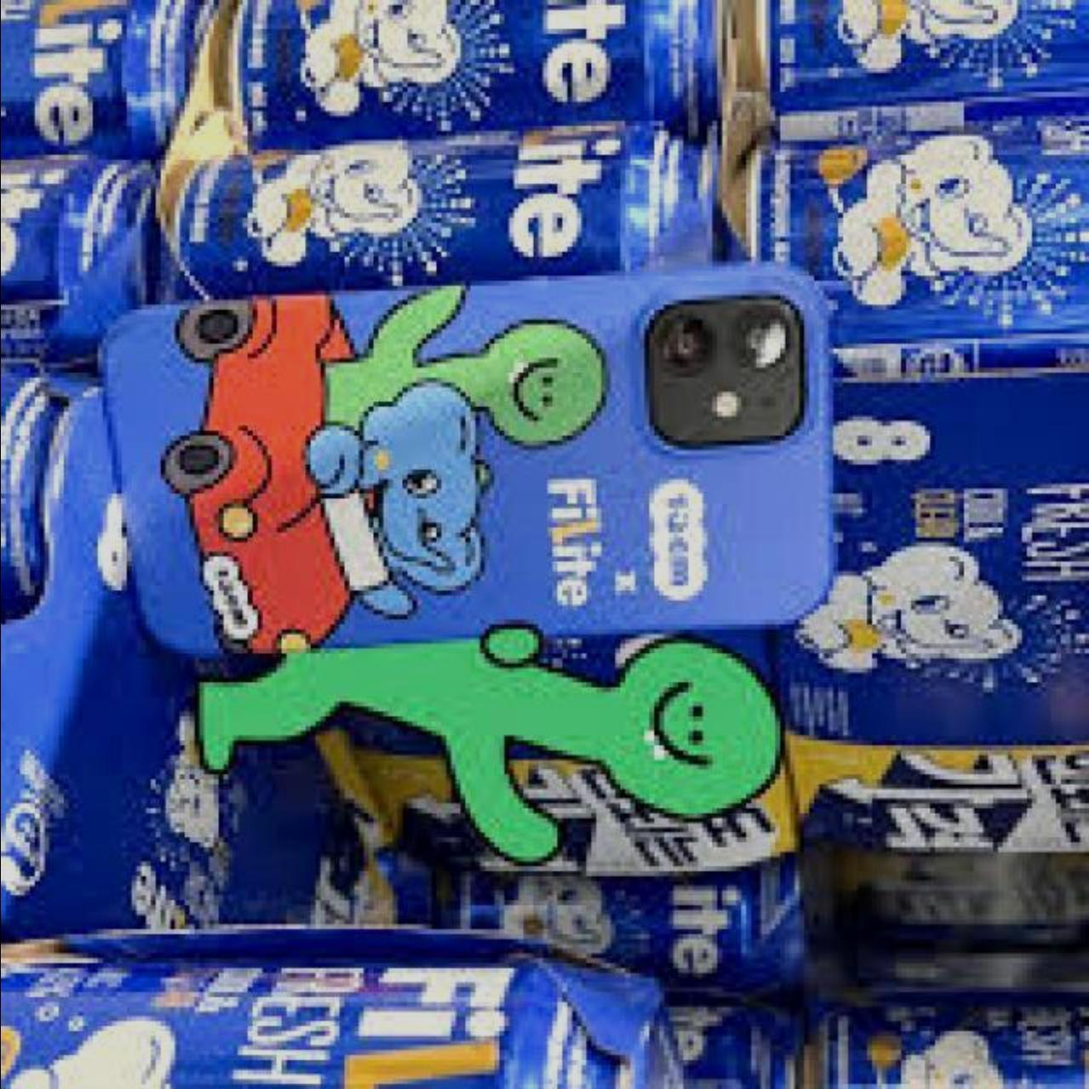phone: (98, 256, 840, 659)
